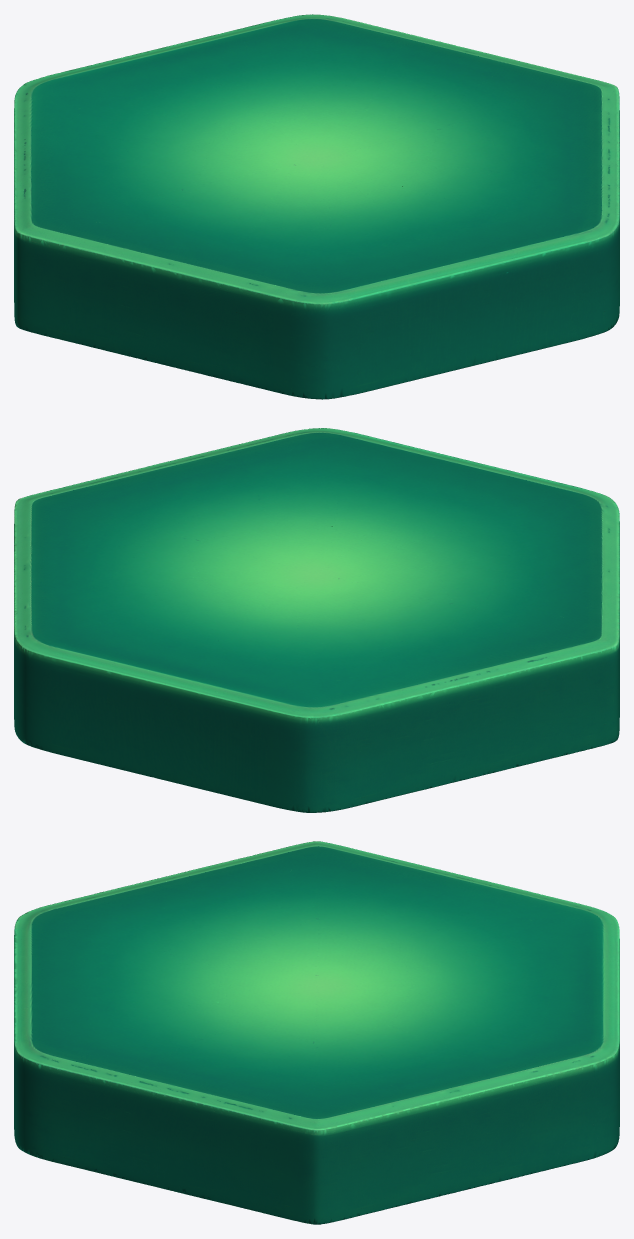
The model's file is Meshy_AI_bio__0321170332_texture.glb.
The picture shows the model from 3 angles, top to bottom: view 1: azimuth 30°, elevation 25°; view 2: azimuth 150°, elevation 25°; view 3: azimuth 270°, elevation 25°; orthographic projection.
Size of the model in its own units: 1.9 by 0.308 by 1.68.
Materials: 1 (1 with a texture image).
